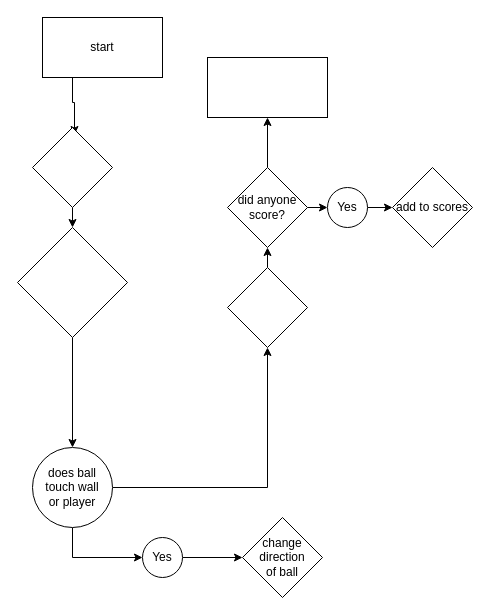
This 490x615 diagram has some shape labels left out. The centre of each missing label's shape, as x and y in pixels:
get position for p1 and p2: point (72, 282)
move ball: point (267, 307)
print game, show score on term and LEDs: point (267, 87)
set variables: point (72, 167)
